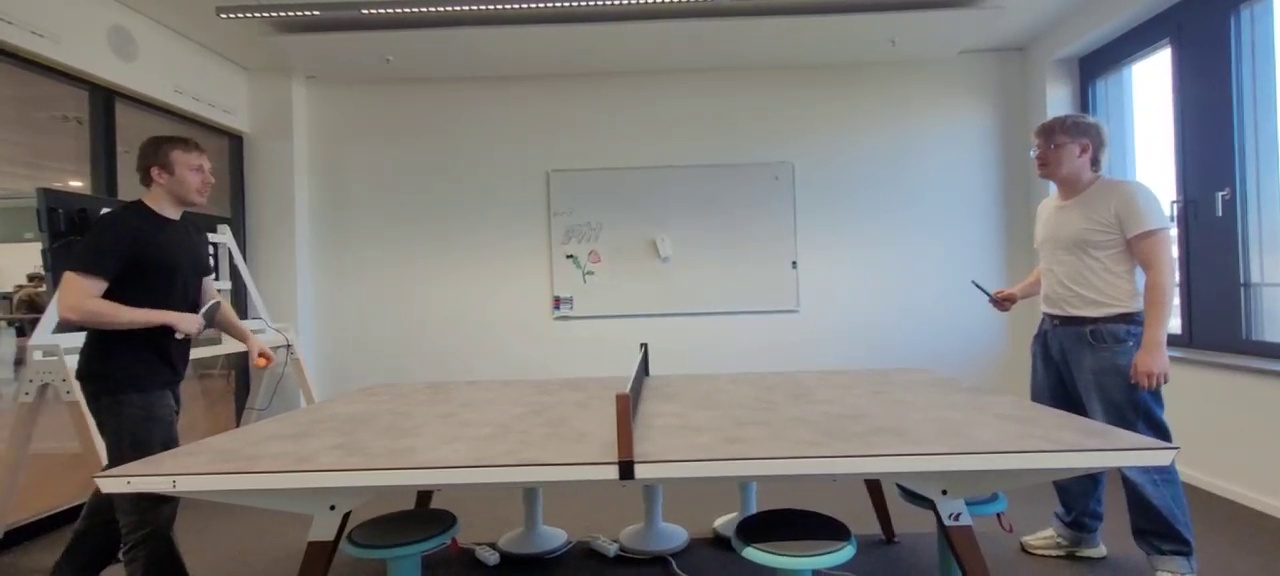plate: (92, 367, 1176, 477)
racket: (971, 280, 999, 301), (198, 299, 221, 321)
ttball: (256, 358, 266, 368)
